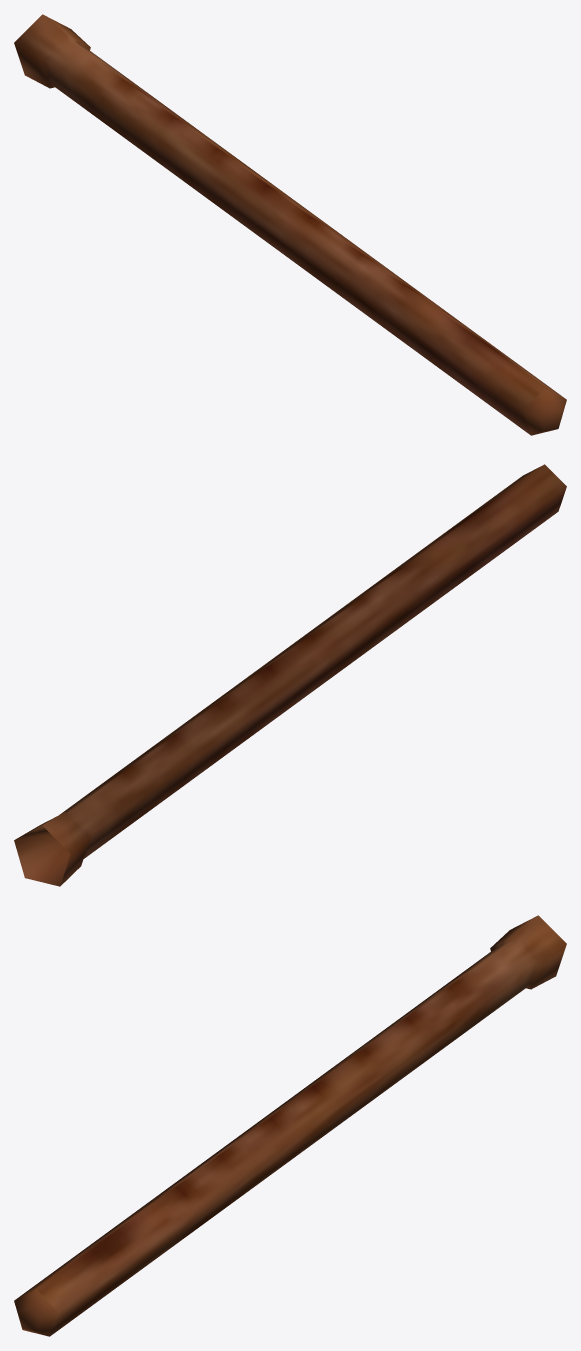
File: flute_high.fbx
3 views of the same model, one above another, from view 1: azimuth 30°, elevation 25°; view 2: azimuth 150°, elevation 25°; view 3: azimuth 330°, elevation 25° (orthographic).
Parts seen in each view (by area): view 1: flute_group; view 2: flute_group; view 3: flute_group.
Part boxes in pixels (x1,y1,x2,y2): flute_group: (14, 14, 566, 435); flute_group: (14, 464, 566, 886); flute_group: (14, 915, 566, 1336).
Size of the model in its own units: 9.29 by 8.84 by 144.
1 material, 1 textured.
